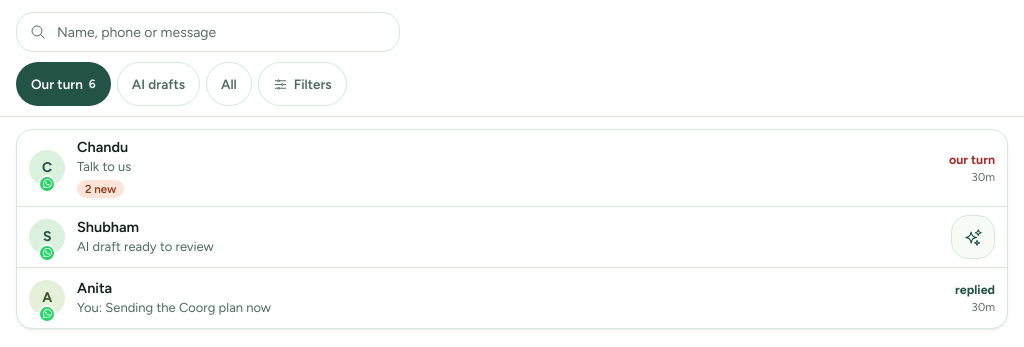
Test: Phone Inbox list › Our turn uses the server's needs_reply view and count; AI drafts filters the loaded chats
What coordinates should you click on to do the following:
click the button "AI drafts"
I would click on:
 (158, 84)
Its box is x1=117 y1=62 x2=200 y2=106.
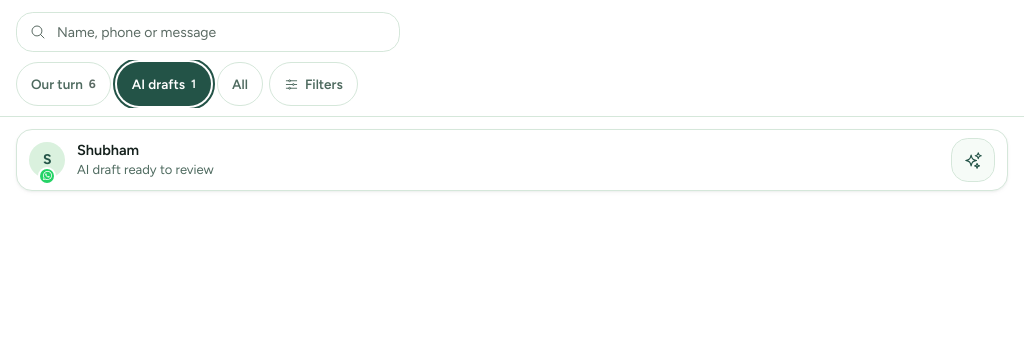
Expected: the text "Shubham" is shown, x1=77 y1=141 x2=139 y2=159
Now the button "Anita" is gone
